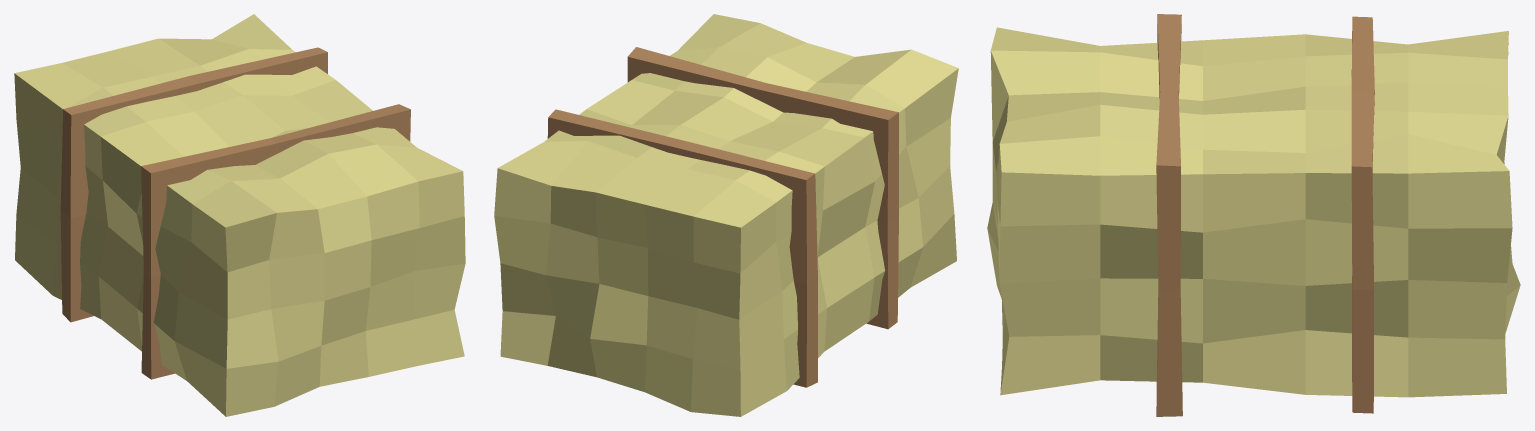
Rendered from HayBale.fbx.
3 views of the same model, side by side, from view 1: azimuth 30°, elevation 25°; view 2: azimuth 150°, elevation 25°; view 3: azimuth 270°, elevation 25° (orthographic). The views are drawn at different scales.
Parts seen in each view (by area): view 1: HayBale; view 2: HayBale; view 3: HayBale.
Boxes of the visible parts, x1=… form: HayBale: x1=14, y1=14, x2=465, y2=416; HayBale: x1=494, y1=14, x2=958, y2=416; HayBale: x1=987, y1=14, x2=1520, y2=416.
Size of the model in its own units: 2.15 by 1.66 by 3.17.
